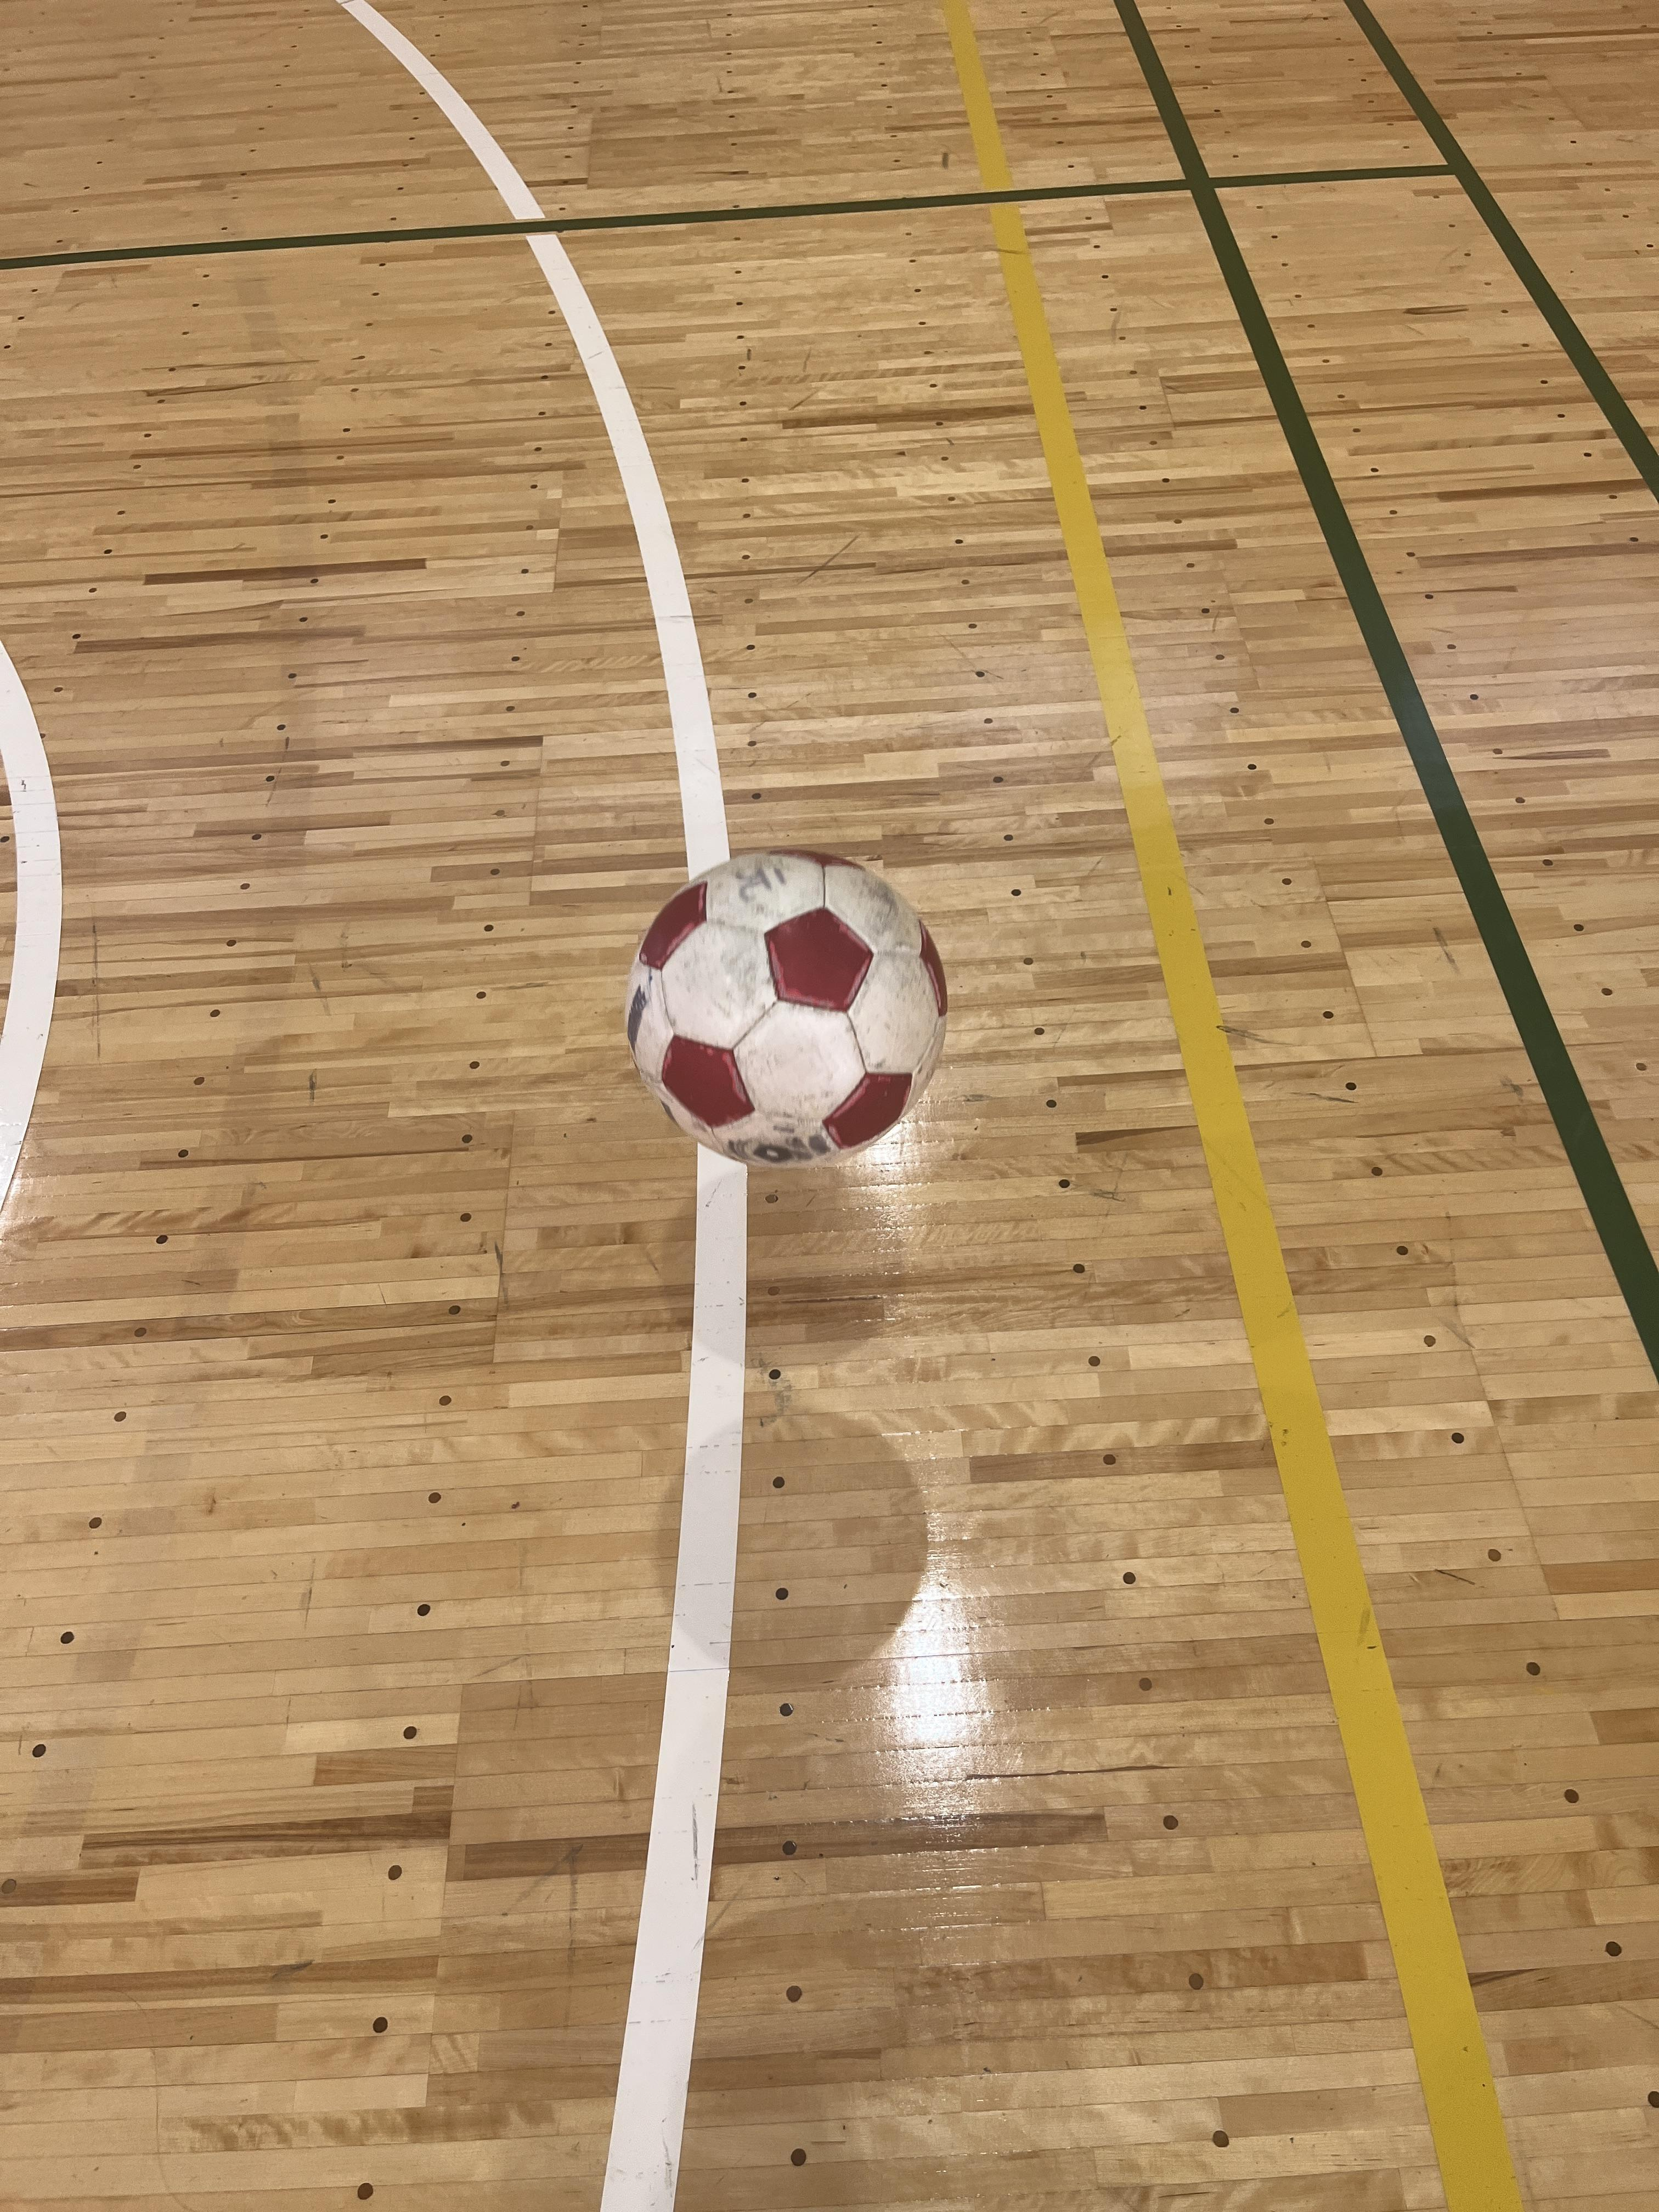Sports-Ball: (627, 841, 965, 1177)
